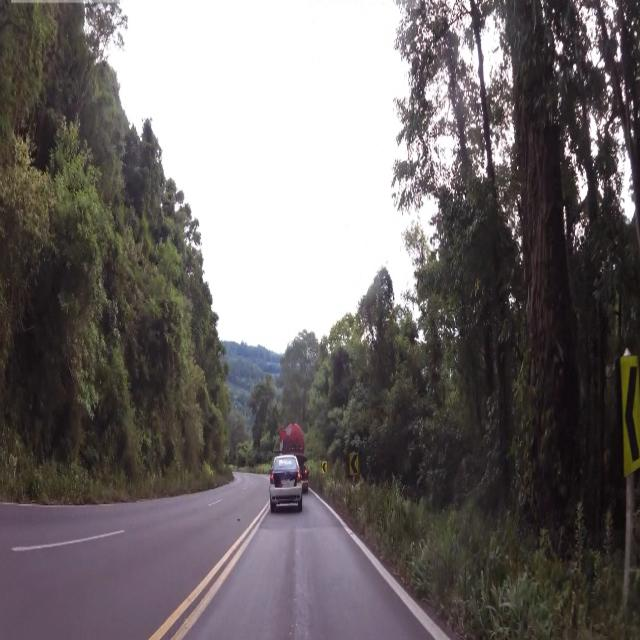Del: (615, 356, 640, 482)
